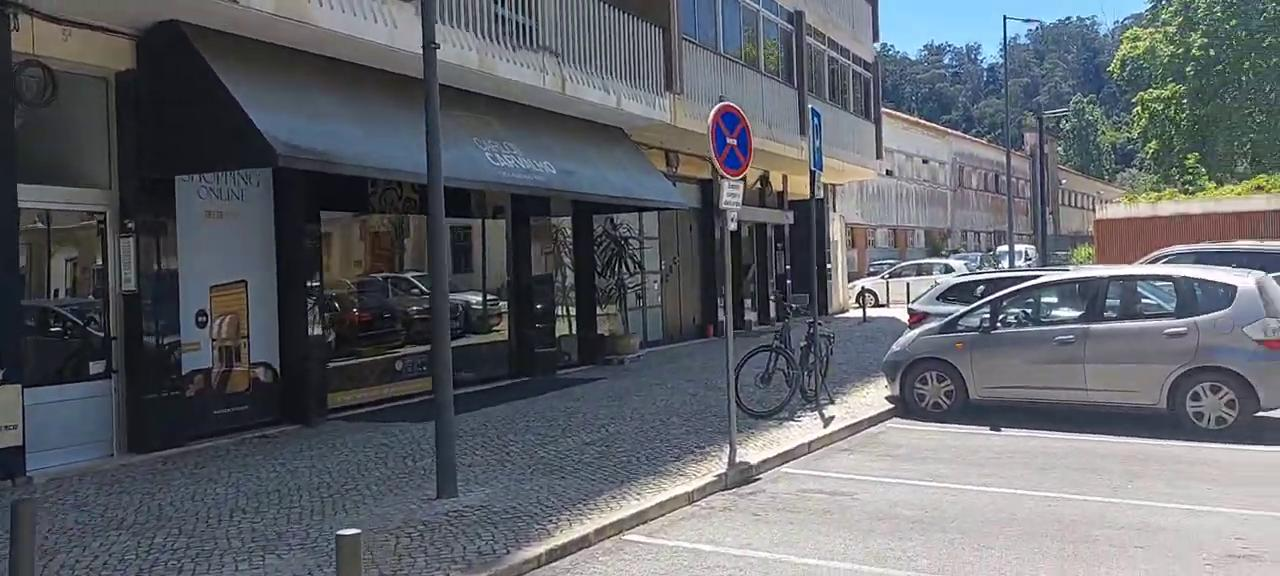paragem e estacionamento proibido: (698, 94, 767, 183)
